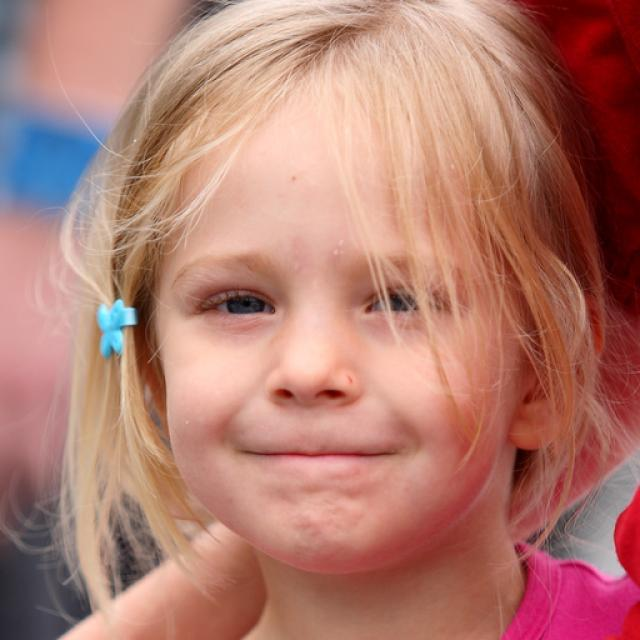happy: (158, 101, 512, 566)
